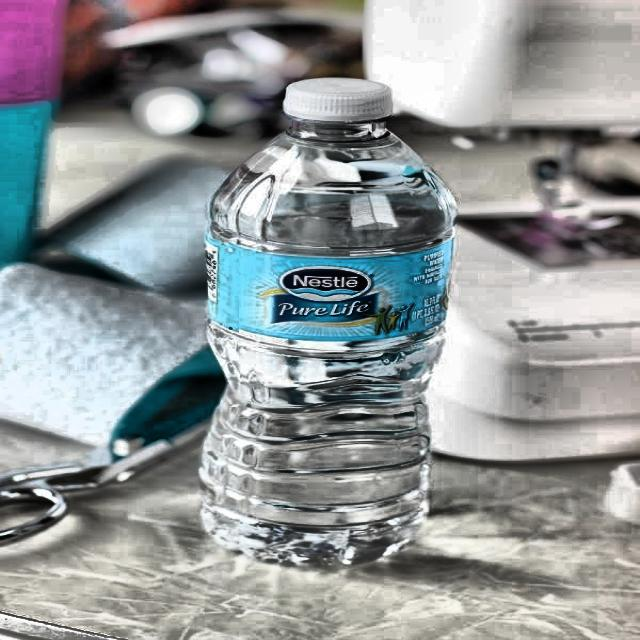Bottles: (188, 73, 465, 569)
